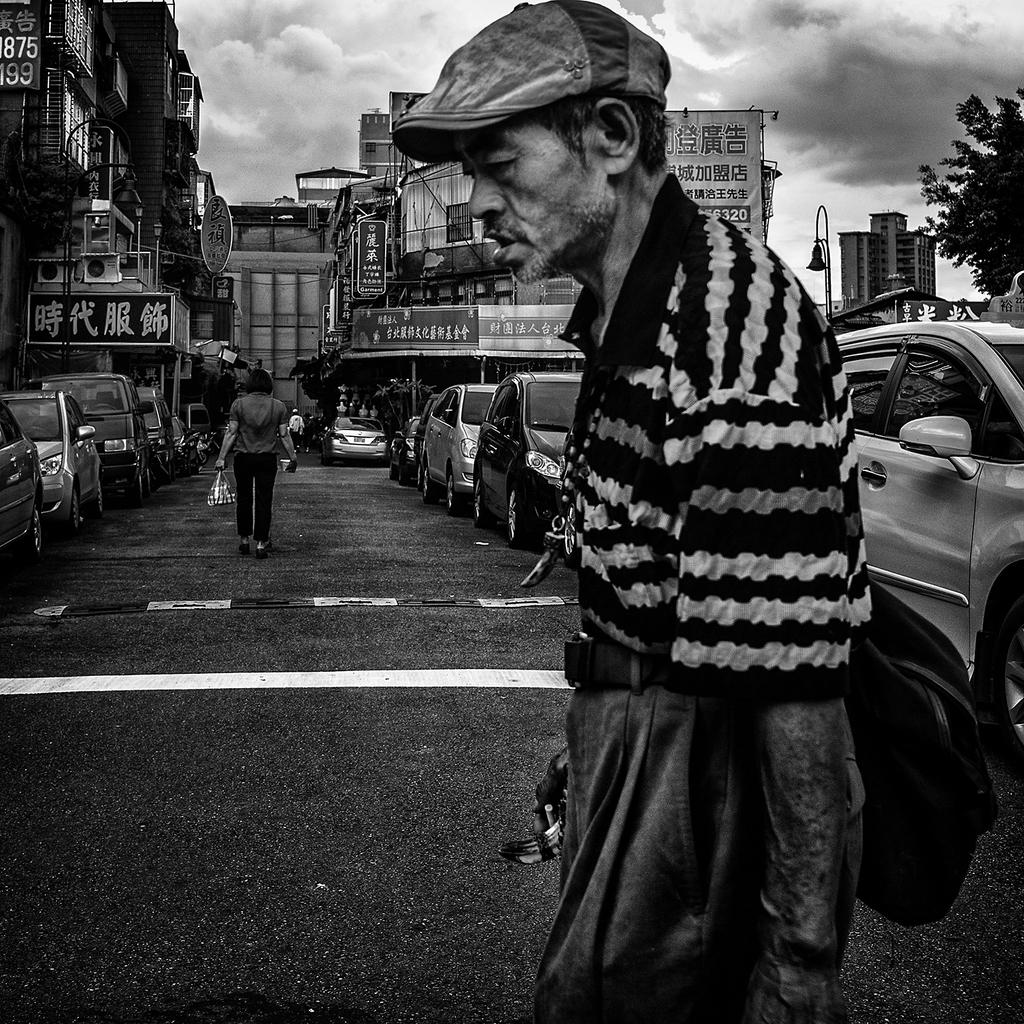Hat: (392, 0, 668, 165)
